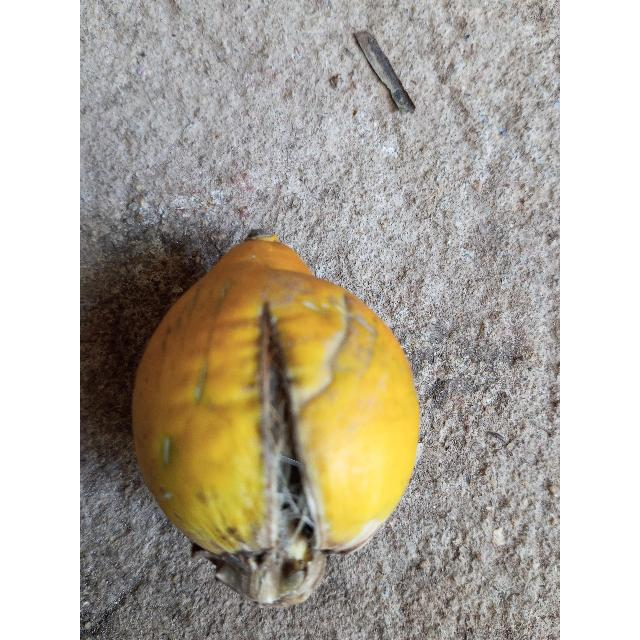damaged: (133, 234, 419, 606)
